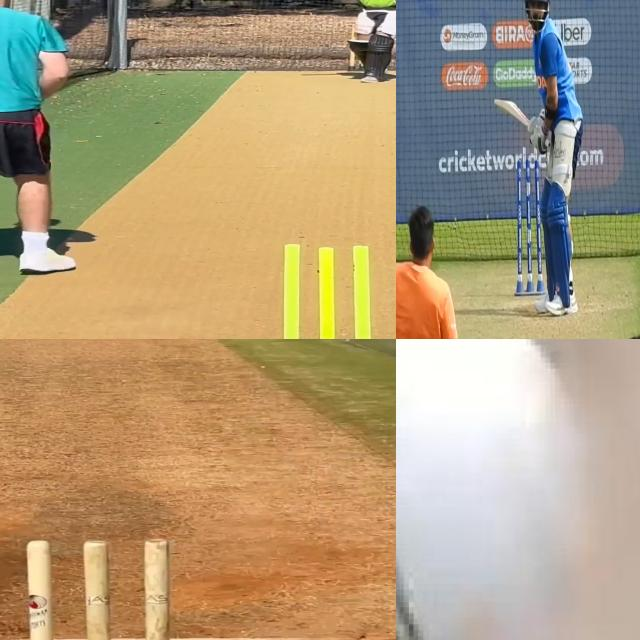Cricket ball: (396, 339, 594, 640)
Stumps: (14, 533, 175, 640), (516, 160, 542, 300)
